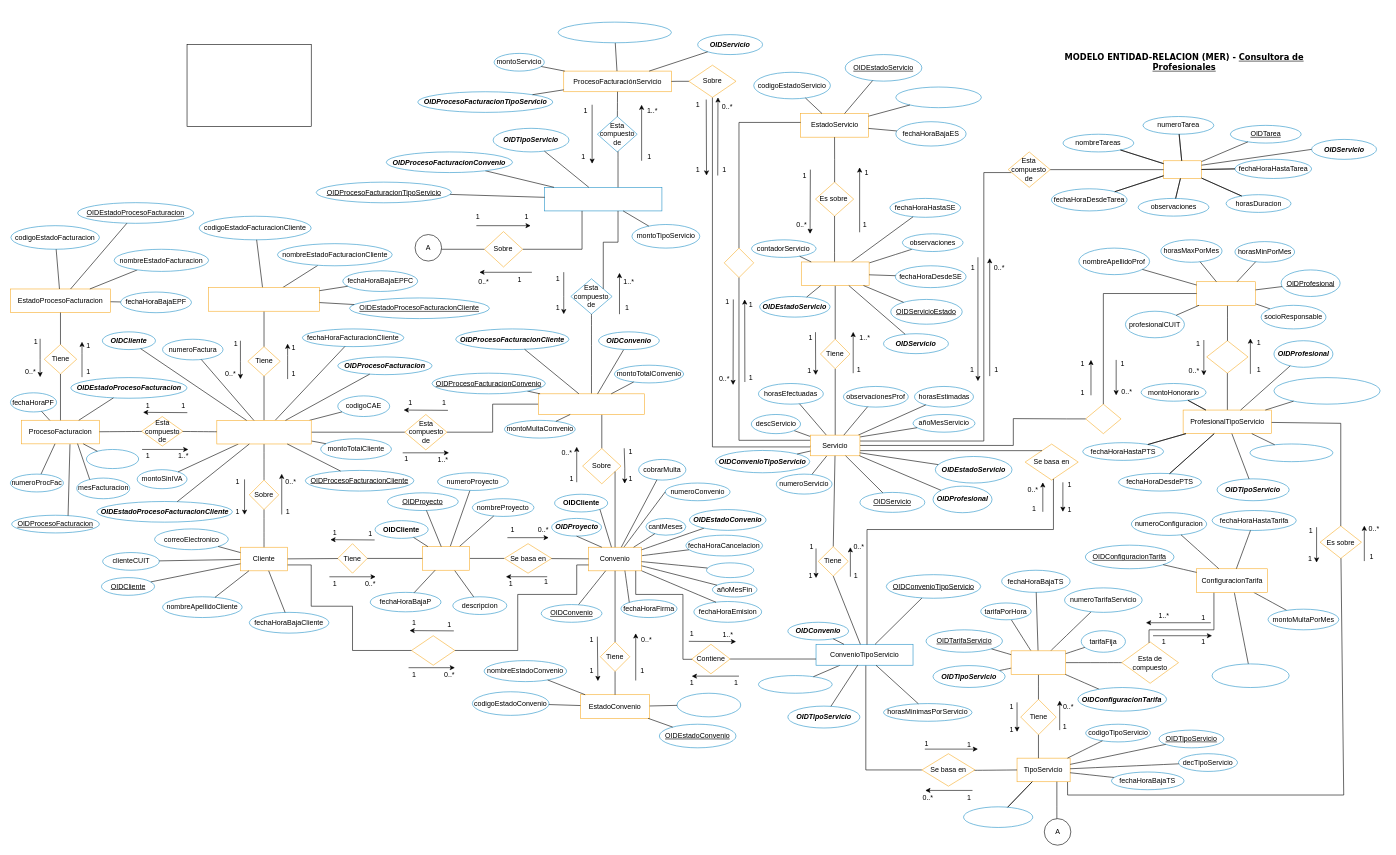
The diagram is 1396 pixels wide and 855 high, and some of its shapes have lost their labels. Here are the shapes that lost their labels. From the top down, the centre of each, then its label:
At [614,32]: "OIDProcesoFacturacionServicio".
At [248,85]: "REFERENCIAS Foreign Key Primary Key PK FK".
At [938,97]: "nombreEstadoServicio".
At [1182,169]: "Tarea".
At [603,199]: "ProcesoFacturaciónTipoServicio".
At [739,263]: "Esta en".
At [835,273]: "ServicioEstado".
At [263,299]: "EstadoProcesoFacturacionCliente".
At [1226,293]: "Profesional".
At [1227,356]: "Sabe".
At [591,403]: "ProcesoFacturacionConvenio".
At [1326,390]: "OID ProfesionalTipoServicio".
At [263,432]: "ProcesoFacturacionCliente".
At [1103,419]: "Realiza".
At [112,459]: "fechaEnvioPF".
At [1291,452]: "contadorProfesional".
At [446,558]: "Proyecto".
At [730,570]: "a ñoMesInicio".
At [433,650]: "Acuerdo".
At [1038,662]: "TarifaServicio".
At [795,684]: "fechaHoraBajaCTS".
At [1250,675]: "fechaHoraDesdeTarifa".
At [708,705]: "fechaHoraBajaEC".
At [998,816]: "nombreTipoServicio".
